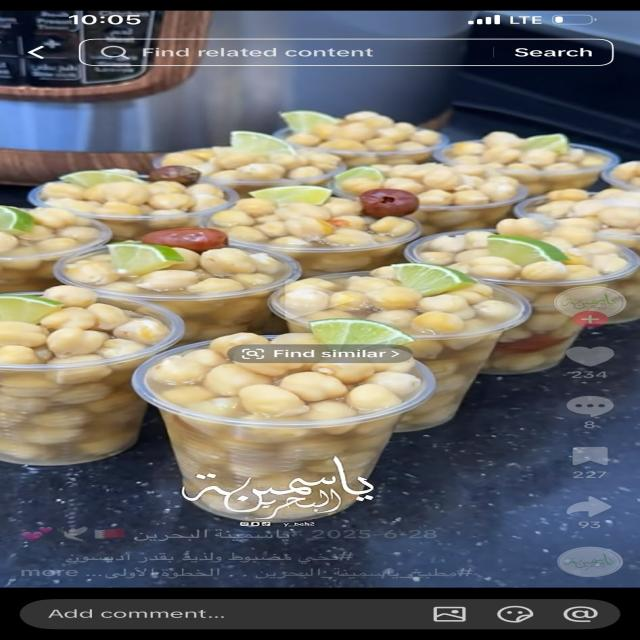Nakhi: (0, 107, 628, 524)
